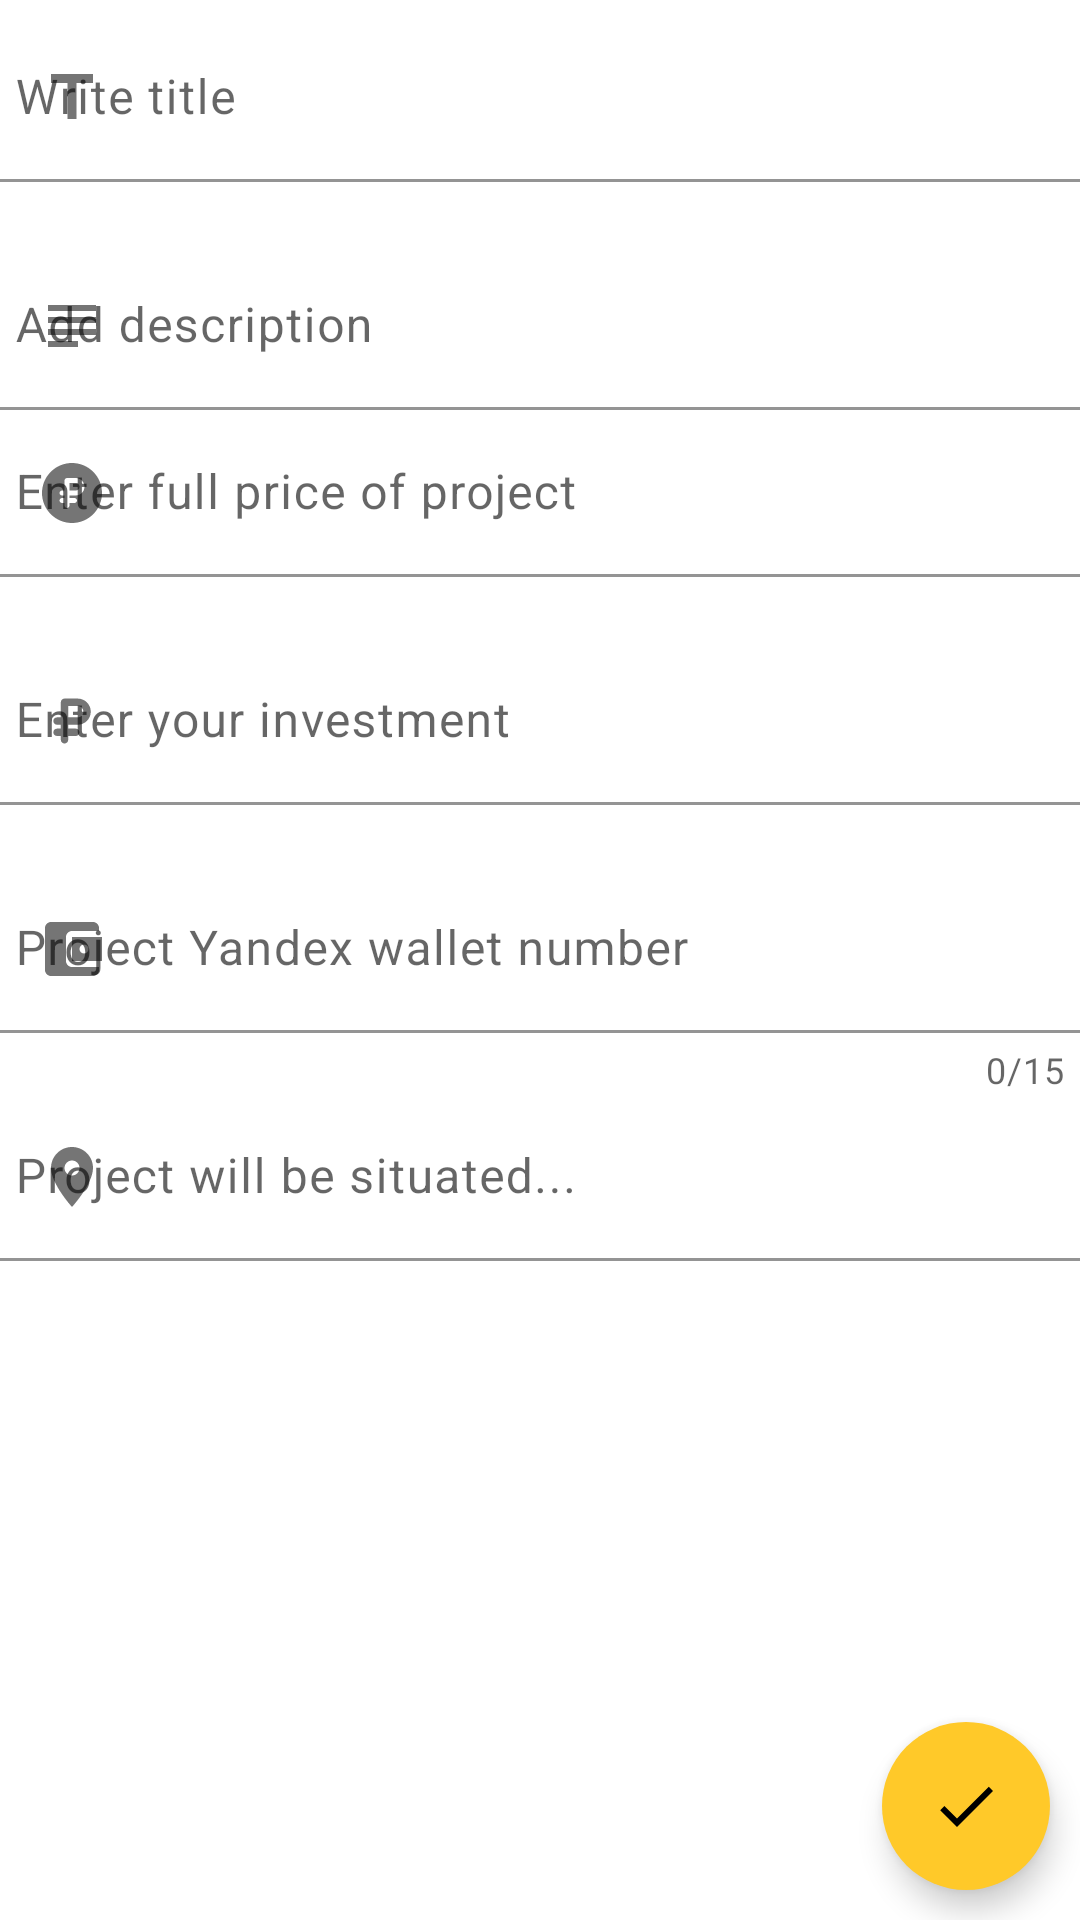

Locate icon controls on the screen. Image size 1080 × 1920, boxes as (x1, y1, x2, y2).
done: (882, 1722, 1050, 1890)
